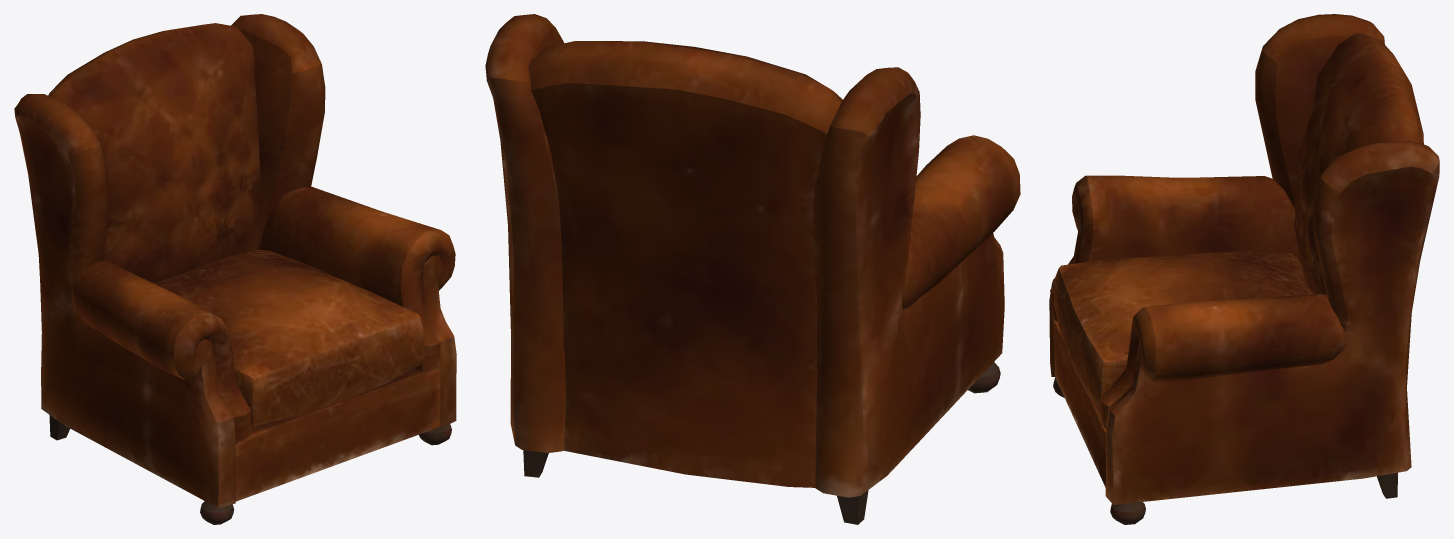
The model's file is armchair.lod0.glb.
The picture shows the model from 3 angles, left to right: view 1: azimuth 30°, elevation 25°; view 2: azimuth 150°, elevation 25°; view 3: azimuth 270°, elevation 25°; orthographic projection. The views are drawn at different scales.
Parts seen in each view (by area): view 1: ARMCHAIR_TEXSET_A_0; view 2: ARMCHAIR_TEXSET_A_0; view 3: ARMCHAIR_TEXSET_A_0.
Part boxes in pixels (bbox=[...]): ARMCHAIR_TEXSET_A_0: bbox=[14, 14, 456, 524]; ARMCHAIR_TEXSET_A_0: bbox=[485, 14, 1020, 524]; ARMCHAIR_TEXSET_A_0: bbox=[1049, 14, 1439, 524].
Bounding box in the file's own units: 0.9945 × 1 × 0.9492.
1 material, 1 textured.
